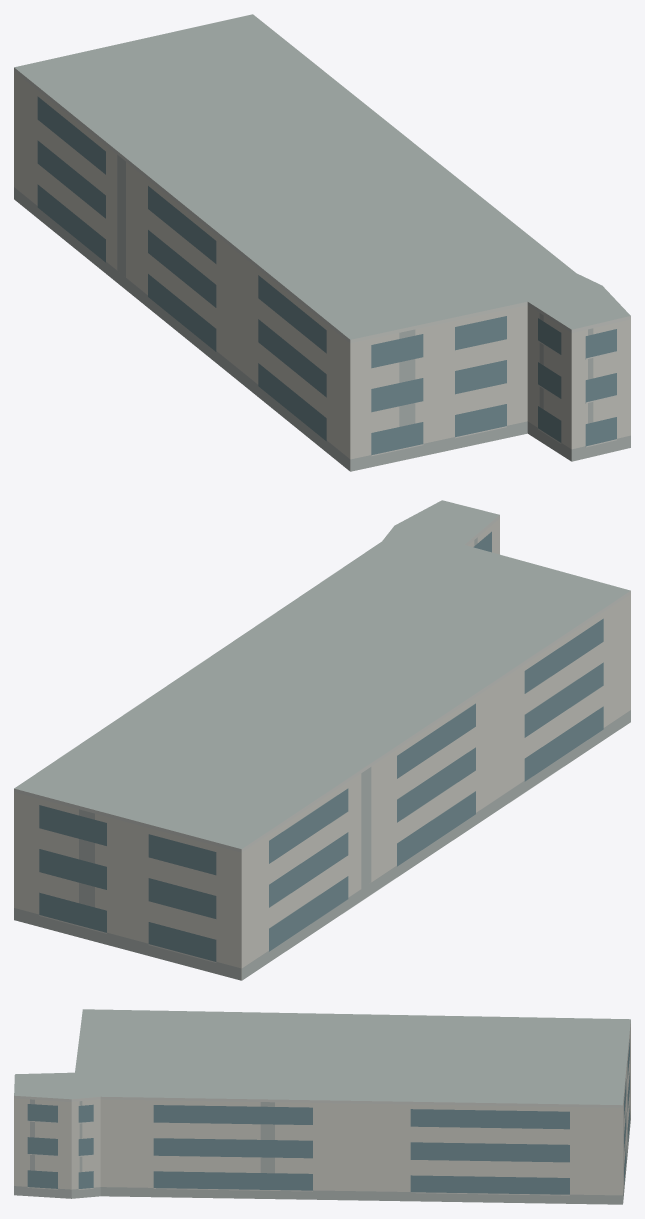
Rendered from survey-upis-32933224.glb.
3 views of the same model, one above another, from view 1: azimuth 30°, elevation 25°; view 2: azimuth 150°, elevation 25°; view 3: azimuth 270°, elevation 25° (orthographic). The views are drawn at different scales.
Visible parts, largest first — view 1: survey-upis-32933224.tmp; view 2: survey-upis-32933224.tmp; view 3: survey-upis-32933224.tmp.
Part boxes in pixels (x1,y1,x2,y2): survey-upis-32933224.tmp: (14,14,630,471); survey-upis-32933224.tmp: (14,500,630,980); survey-upis-32933224.tmp: (14,1009,630,1204).
Bounding box in the file's own units: 18.92 × 9.15 × 51.41.
